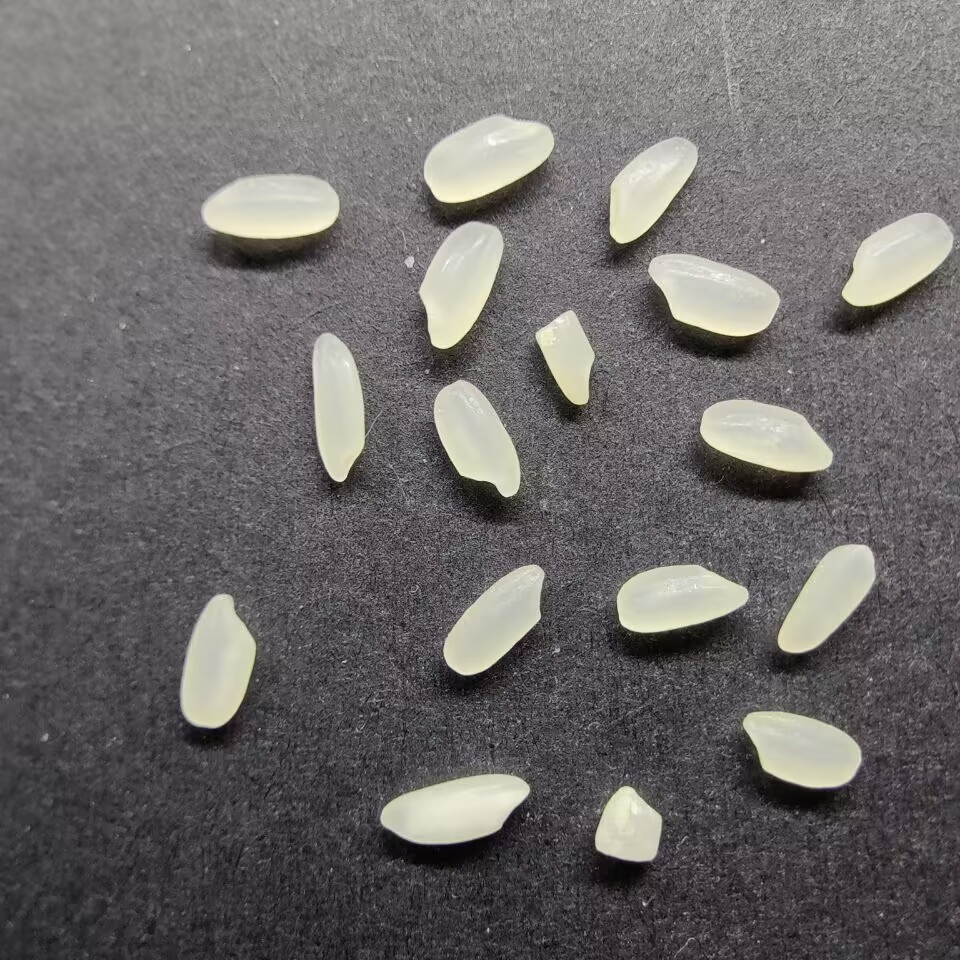broken: (533, 308, 596, 407), (592, 783, 665, 864)
rice: (419, 112, 557, 203), (441, 560, 544, 677), (377, 770, 532, 846), (645, 251, 781, 337), (776, 543, 878, 655), (417, 220, 504, 350), (841, 210, 954, 307), (433, 379, 523, 500), (179, 591, 258, 728), (699, 397, 836, 473), (608, 134, 700, 244), (615, 562, 752, 635), (740, 710, 864, 790), (198, 172, 342, 240), (309, 329, 368, 485)
